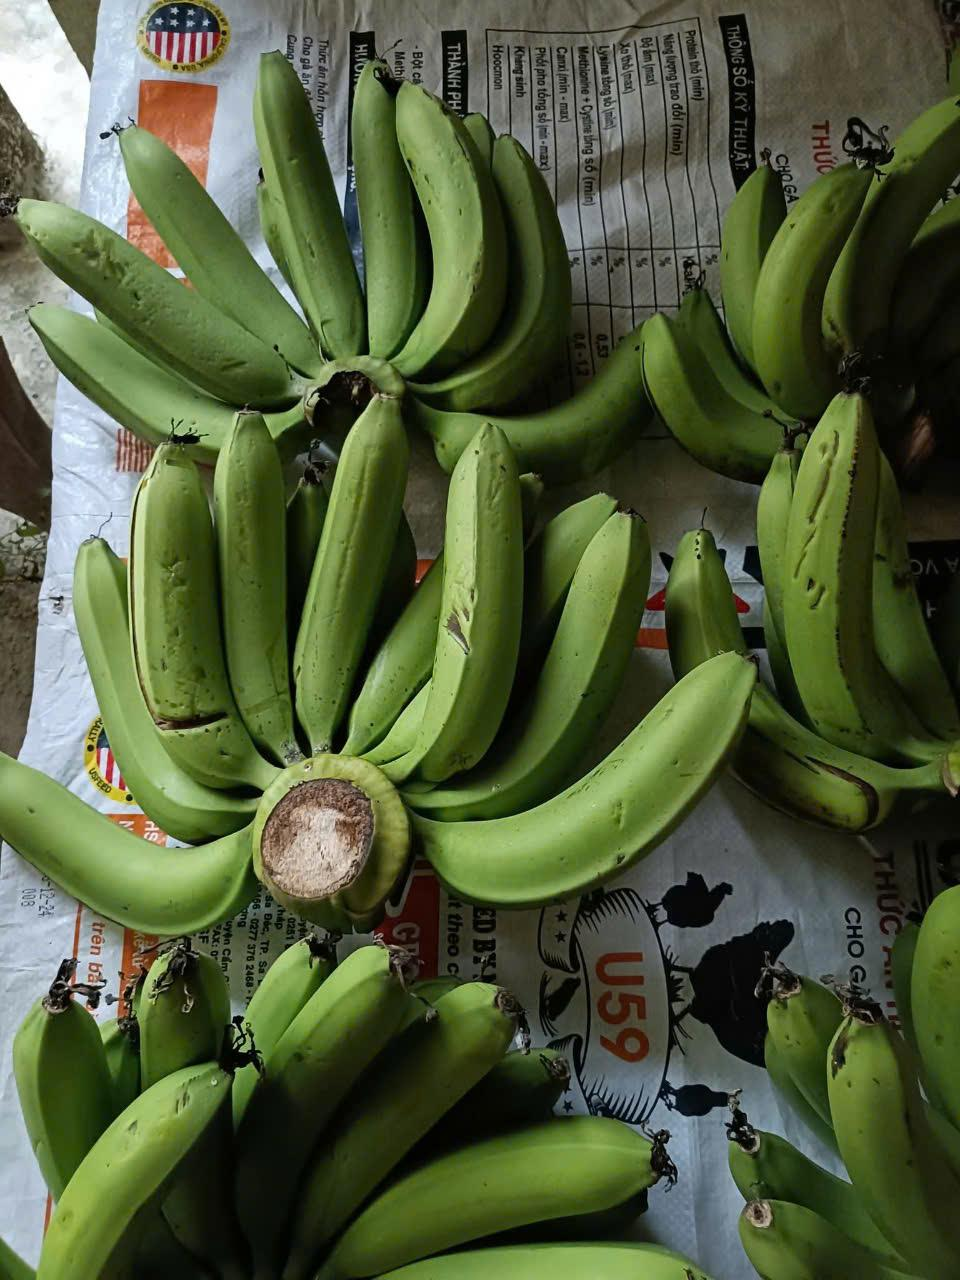banana: (0, 913, 675, 1280), (62, 433, 378, 923), (427, 413, 725, 917), (0, 67, 293, 454), (703, 883, 960, 1270), (377, 23, 605, 415), (753, 413, 960, 836), (713, 100, 960, 418)
